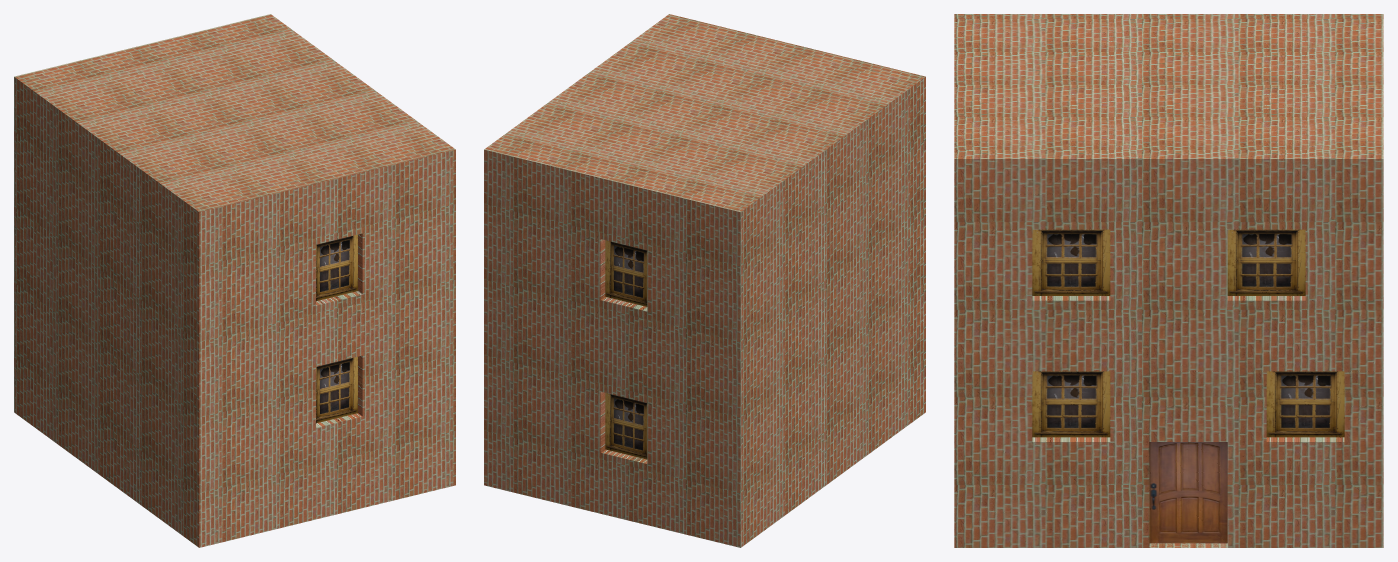
Rendered from building1.gltf.
3 views of the same model, side by side, from view 1: azimuth 30°, elevation 25°; view 2: azimuth 150°, elevation 25°; view 3: azimuth 270°, elevation 25° (orthographic). The views are drawn at different scales.
Parts seen in each view (by area): view 1: Cube; view 2: Cube; view 3: Cube.
Boxes of the visible parts, left/top/right/bottom form: Cube: left=14, top=14, right=455, bottom=547; Cube: left=484, top=14, right=925, bottom=547; Cube: left=954, top=14, right=1383, bottom=547.
Size of the model in its own units: 16 by 20 by 20.
Materials: 3 (3 with a texture image).
